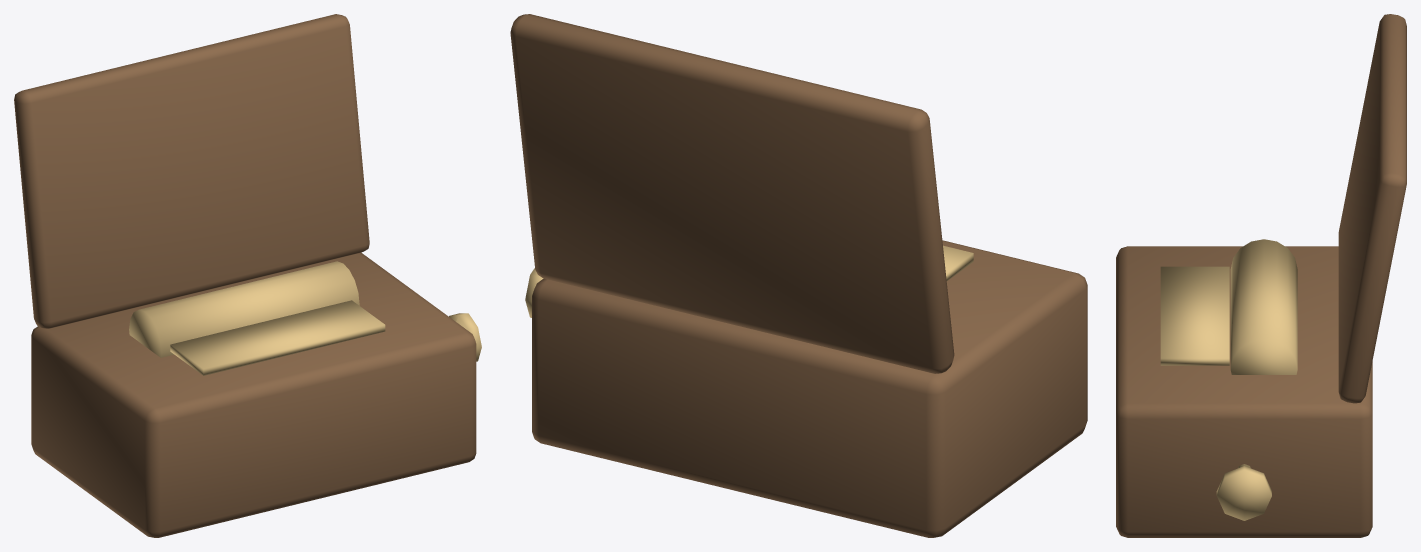
File: music_box.glb
The picture shows the model from 3 angles, left to right: view 1: azimuth 30°, elevation 25°; view 2: azimuth 150°, elevation 25°; view 3: azimuth 270°, elevation 25°; orthographic projection. The views are drawn at different scales.
Parts seen in each view (by area): view 1: lid, case, cylinder, comb; view 2: lid, case, comb; view 3: case, lid, cylinder, comb, key.
Part boxes in pixels (x1,y1,x2,y2): lid: [14, 14, 369, 328]; case: [31, 252, 476, 537]; cylinder: [129, 261, 359, 357]; comb: [170, 300, 385, 375]; lid: [510, 14, 954, 373]; case: [532, 240, 1087, 537]; comb: [943, 245, 973, 280]; case: [1116, 246, 1372, 537]; lid: [1338, 14, 1406, 403]; cylinder: [1230, 239, 1297, 374]; comb: [1160, 266, 1229, 365]; key: [1216, 464, 1271, 520].
Size of the model in its own units: 0.234 by 0.2044 by 0.1473.
